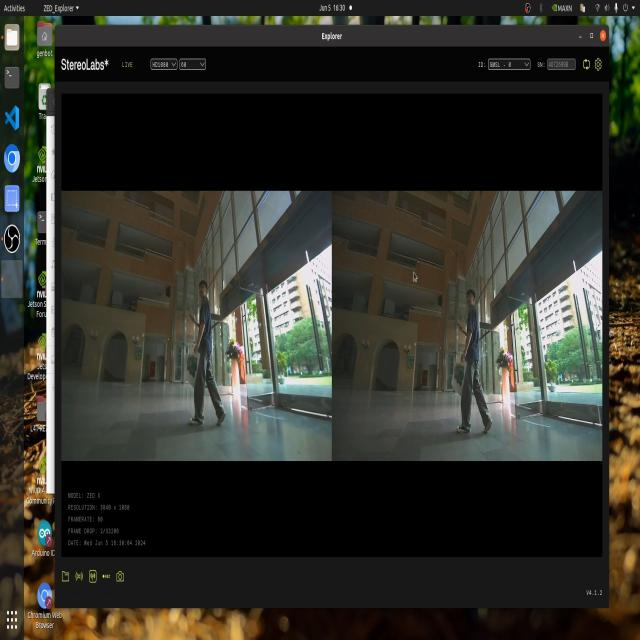green: (451, 360, 468, 395), (182, 353, 198, 383)
